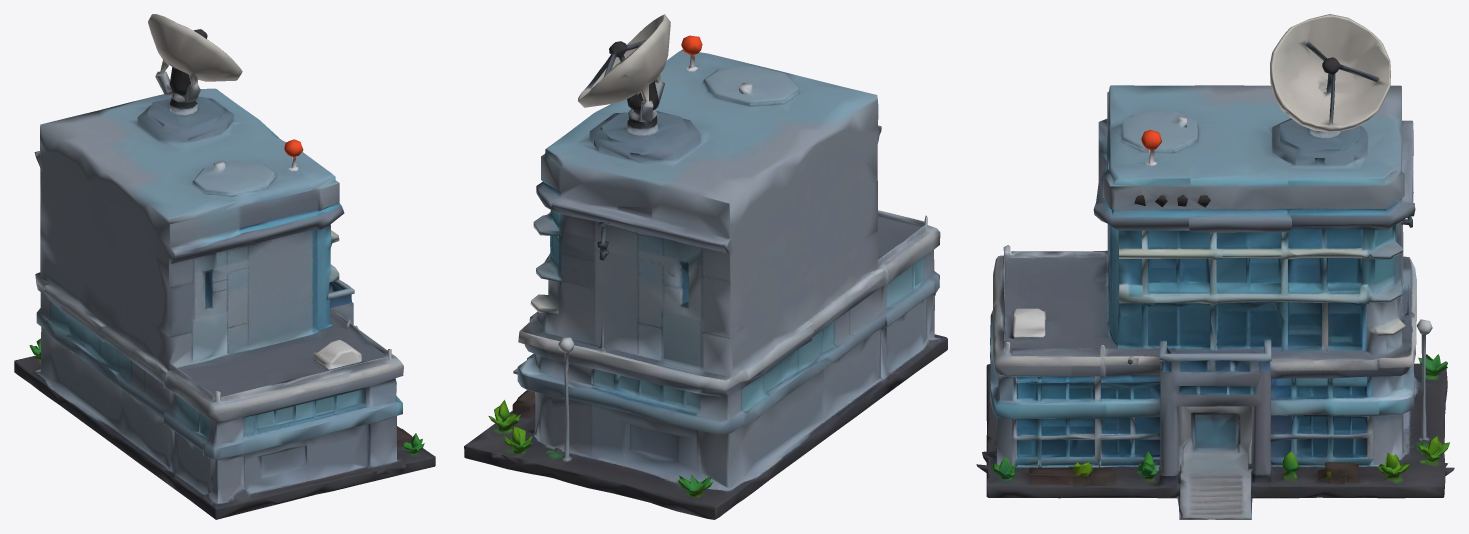
The model's file is lab.glb.
The picture shows the model from 3 angles, left to right: view 1: azimuth 30°, elevation 25°; view 2: azimuth 150°, elevation 25°; view 3: azimuth 270°, elevation 25°; orthographic projection. The views are drawn at different scales.
Visible parts, largest first — view 1: tripo_node_e5d2d184-7fbf-492e-91f1-378981b49583; view 2: tripo_node_e5d2d184-7fbf-492e-91f1-378981b49583; view 3: tripo_node_e5d2d184-7fbf-492e-91f1-378981b49583.
Boxes of the visible parts, x1,y1,x2,y2 form: tripo_node_e5d2d184-7fbf-492e-91f1-378981b49583: (14, 14, 435, 519); tripo_node_e5d2d184-7fbf-492e-91f1-378981b49583: (464, 14, 947, 519); tripo_node_e5d2d184-7fbf-492e-91f1-378981b49583: (976, 14, 1454, 519).
Bounding box in the file's own units: 0.719 × 0.9651 × 1.
Materials: 1 (1 with a texture image).
